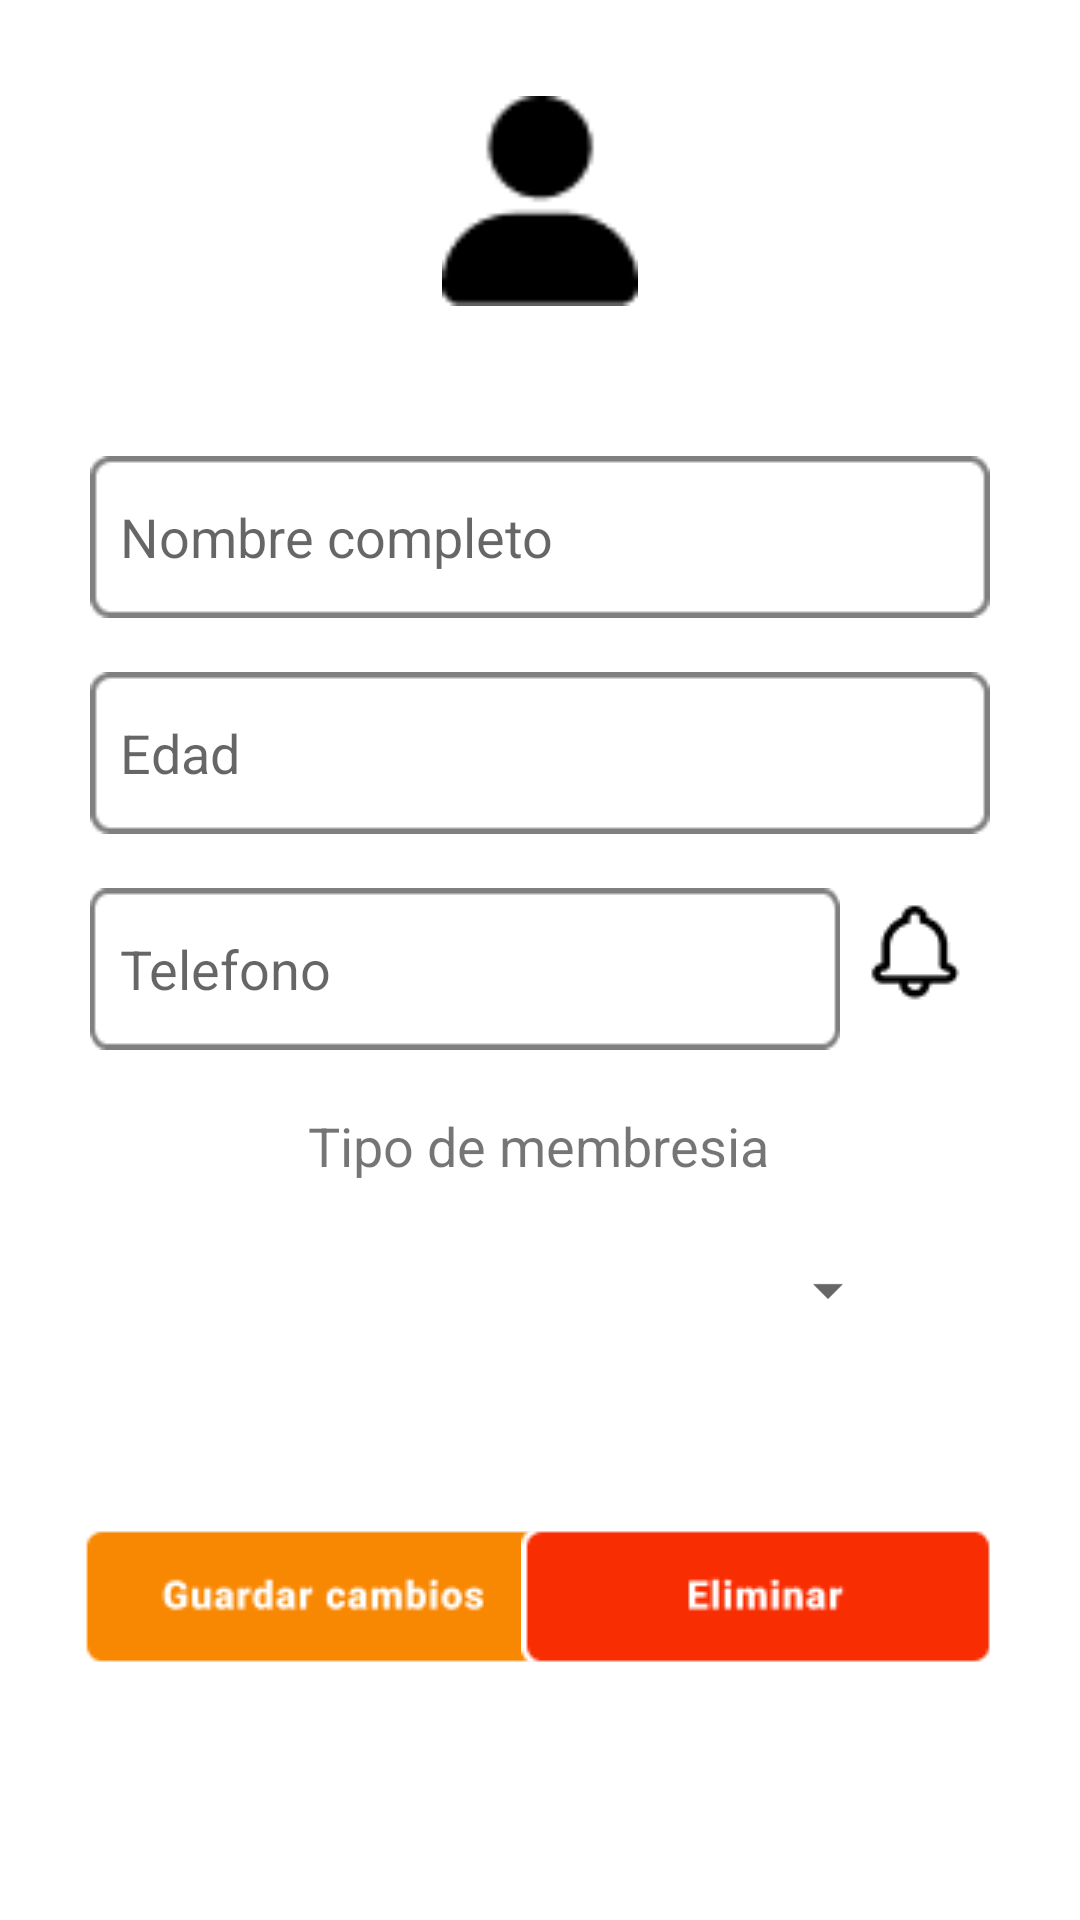

Named icons in this screenshot (1080 × 1920) and their bounding boxes, (left=x1, top=y1, right=x2, bottom=y2):
notificar: (left=871, top=905, right=960, bottom=1000)
